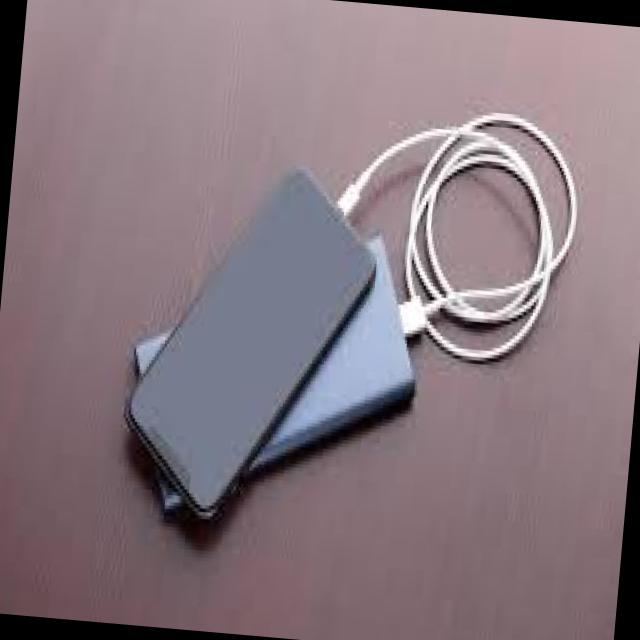portable-charger: (115, 220, 437, 552)
